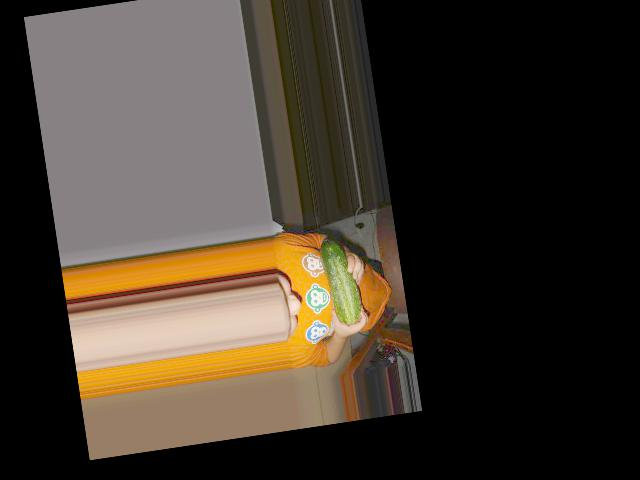cucumber: (318, 236, 364, 328)
